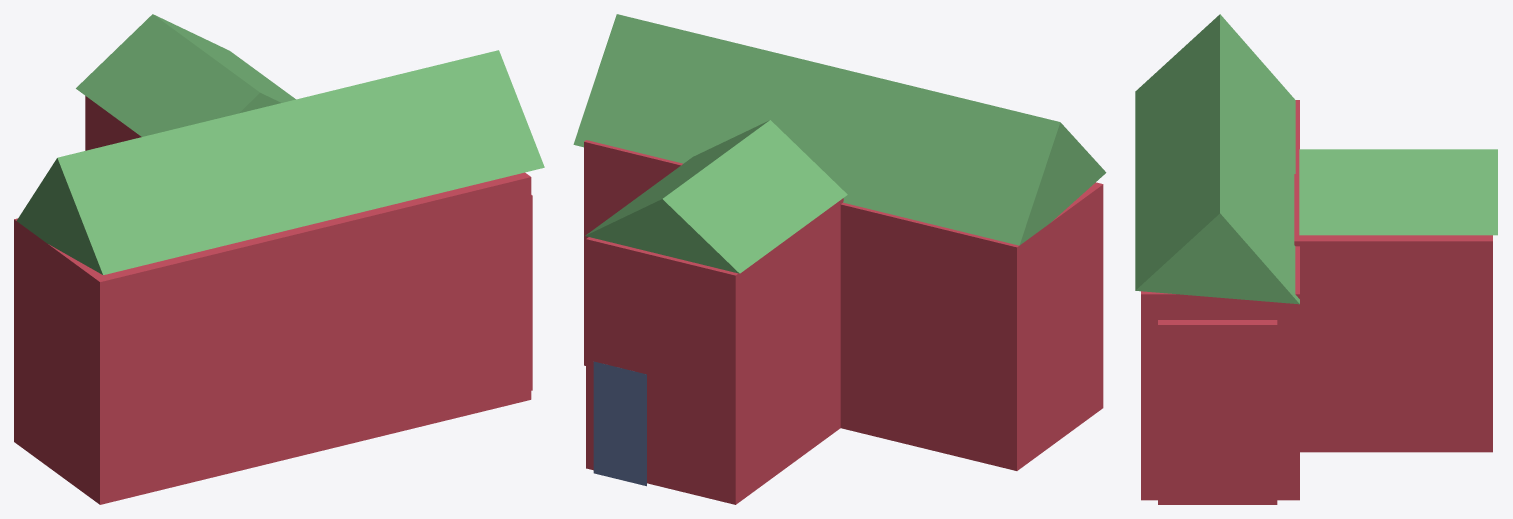
Rendered from VincentHouse.glb.
3 views of the same model, side by side, from view 1: azimuth 30°, elevation 25°; view 2: azimuth 150°, elevation 25°; view 3: azimuth 270°, elevation 25° (orthographic). The views are drawn at different scales.
Visible parts, largest first — view 1: Mesh_Mesh_head_geo.001_lambert2SG.001; view 2: Mesh_Mesh_head_geo.001_lambert2SG.001; view 3: Mesh_Mesh_head_geo.001_lambert2SG.001.
Part boxes in pixels (x1,y1,x2,y2): Mesh_Mesh_head_geo.001_lambert2SG.001: (14, 14, 544, 504); Mesh_Mesh_head_geo.001_lambert2SG.001: (573, 14, 1106, 504); Mesh_Mesh_head_geo.001_lambert2SG.001: (1135, 14, 1497, 504).
Bounding box in the file's own units: 83 × 56.73 × 64.
